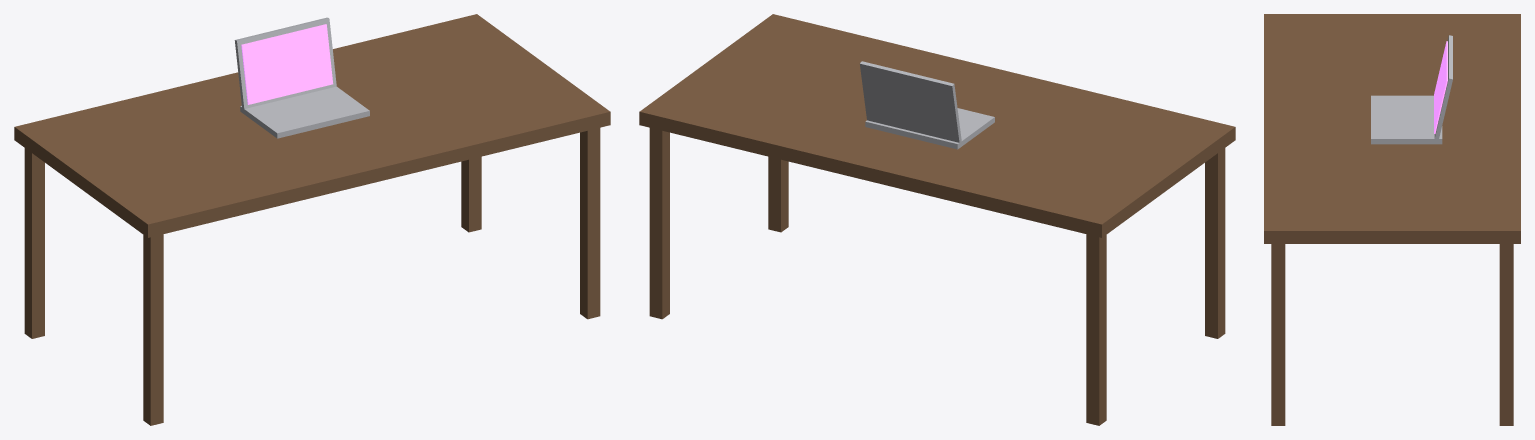
File: desk.glb
The picture shows the model from 3 angles, left to right: view 1: azimuth 30°, elevation 25°; view 2: azimuth 150°, elevation 25°; view 3: azimuth 270°, elevation 25°; orthographic projection. The views are drawn at different scales.
Visible parts, largest first — view 1: Top, LaptopScreen, Leg-0.85-0.4, Leg0.85-0.4, Leg-0.850.4, LaptopBase, LaptopLid, Leg0.850.4; view 2: Top, LaptopLid, Leg-0.850.4, Leg0.850.4, Leg-0.85-0.4, LaptopBase, Leg0.85-0.4; view 3: Top, LaptopBase, Leg0.85-0.4, Leg0.850.4, LaptopScreen, LaptopLid.
Boxes of the visible parts, <box> form: Top: <box>14,14,610,237</box>; LaptopScreen: <box>241,24,333,104</box>; Leg-0.85-0.4: <box>143,234,163,425</box>; Leg0.85-0.4: <box>580,128,600,319</box>; Leg-0.850.4: <box>24,148,44,338</box>; LaptopBase: <box>240,86,369,138</box>; LaptopLid: <box>234,17,336,108</box>; Leg0.850.4: <box>461,156,481,232</box>; Top: <box>639,14,1235,237</box>; LaptopLid: <box>860,61,961,142</box>; Leg-0.850.4: <box>1086,234,1106,425</box>; Leg0.850.4: <box>649,128,669,319</box>; Leg-0.85-0.4: <box>1205,148,1225,338</box>; LaptopBase: <box>865,108,994,149</box>; Leg0.85-0.4: <box>768,156,788,232</box>; Top: <box>1264,14,1520,243</box>; LaptopBase: <box>1371,95,1442,144</box>; Leg0.85-0.4: <box>1271,244,1285,425</box>; Leg0.850.4: <box>1499,244,1513,425</box>; LaptopScreen: <box>1434,41,1447,133</box>; LaptopLid: <box>1434,35,1452,139</box>.
Bounding box in the file's own units: 1.8 × 1.02 × 0.9.
